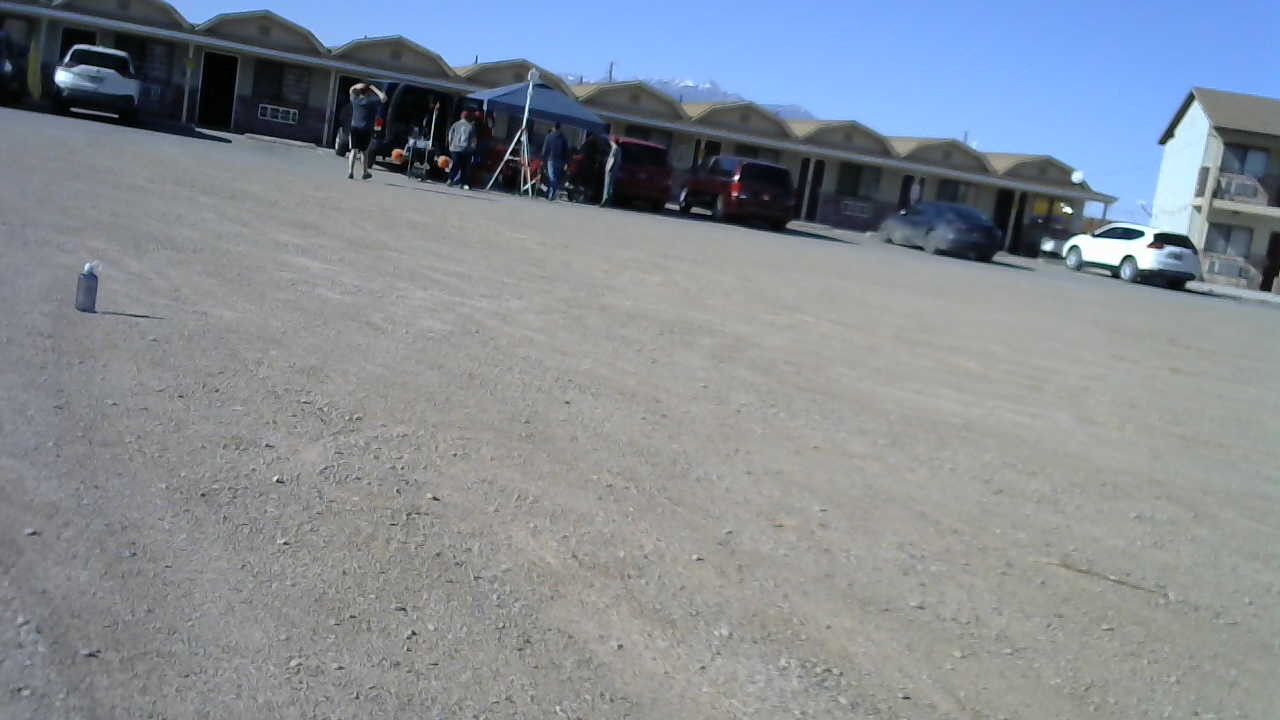bottle: (71, 258, 105, 317)
